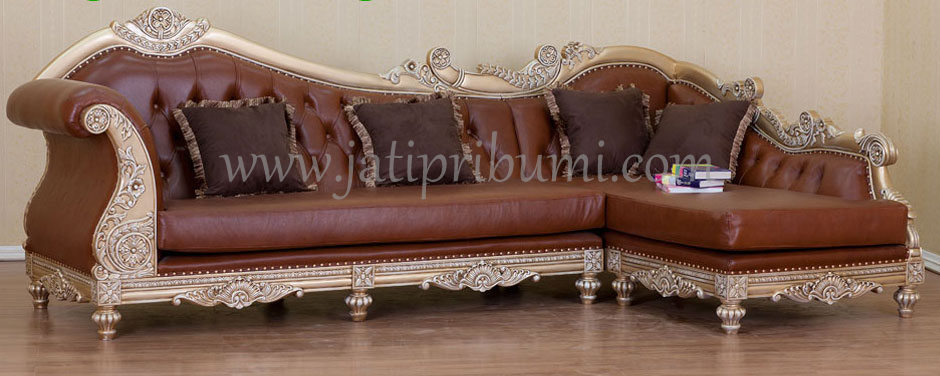Carving Chair: (60, 21, 915, 335)
